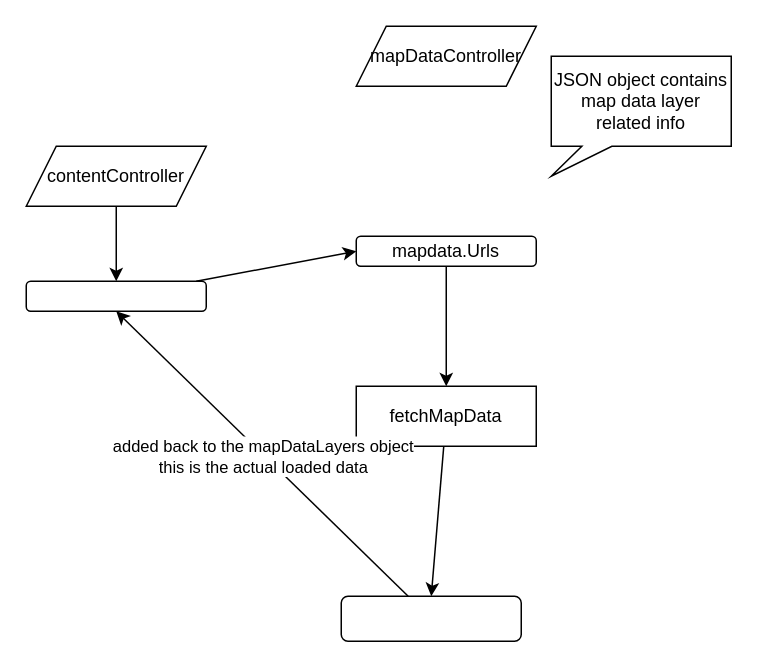
Image size: 758x668. Some labels were removed from this diagram. Each missing label, with the box of its shape:
features: (340, 595, 521, 641)
mapDataLayers: (25, 280, 206, 311)
